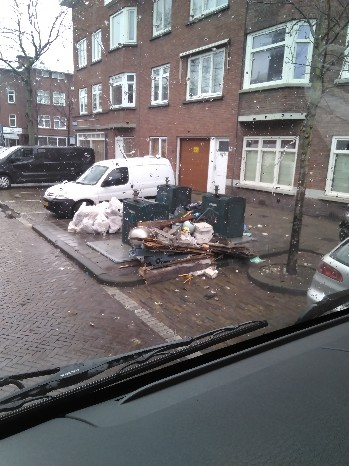Container: (124, 198, 162, 239), (211, 190, 244, 228), (167, 183, 190, 208)
Rest: (172, 243, 203, 288), (166, 218, 206, 249), (81, 209, 114, 242), (205, 232, 239, 261), (134, 231, 153, 280)
